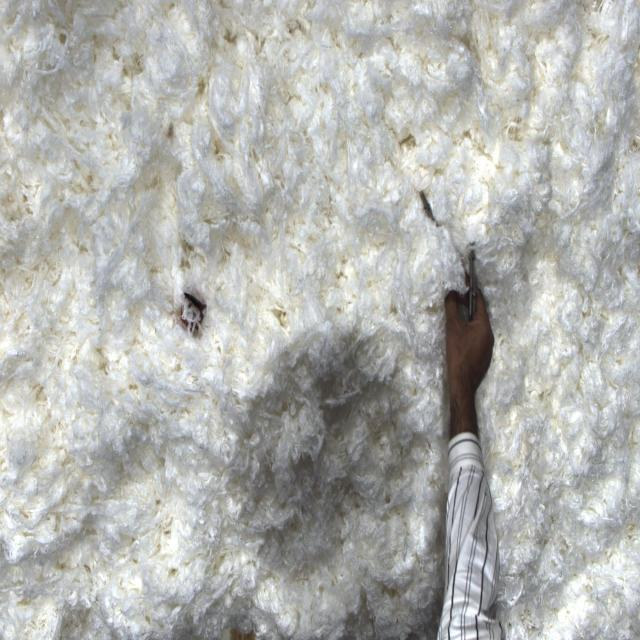dust: (168, 253, 220, 378), (418, 185, 446, 243)
